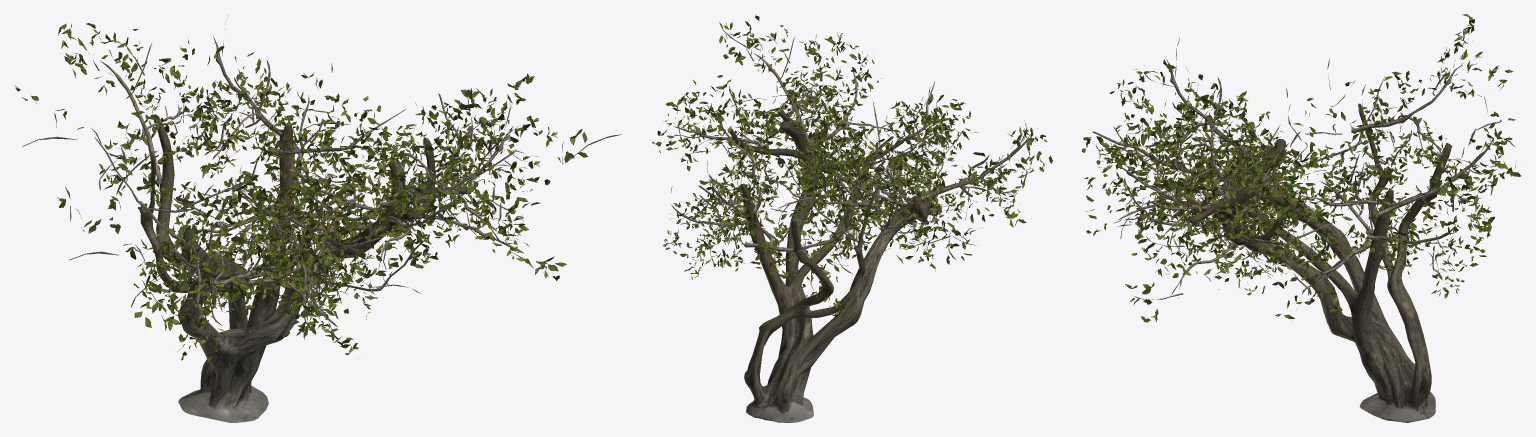
The model's file is tree3.glb.
3 renders of one model, left to right at view 1: azimuth 30°, elevation 25°; view 2: azimuth 150°, elevation 25°; view 3: azimuth 270°, elevation 25°, orthographic. The views are drawn at different scales.
Parts seen in each view (by area): view 1: island_tree_02_LOD0; view 2: island_tree_02_LOD0; view 3: island_tree_02_LOD0.
Boxes of the visible parts, bbox=[...] form: island_tree_02_LOD0: bbox=[15, 15, 621, 422]; island_tree_02_LOD0: bbox=[652, 15, 1052, 422]; island_tree_02_LOD0: bbox=[1081, 14, 1520, 422].
Bounding box in the file's own units: 4.1 × 3.39 × 4.01.
3 materials, 3 textured.
